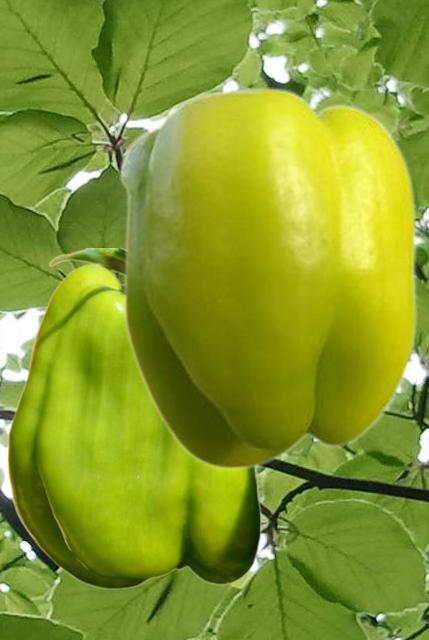bell_pepper: (118, 85, 416, 469), (6, 248, 264, 589)
